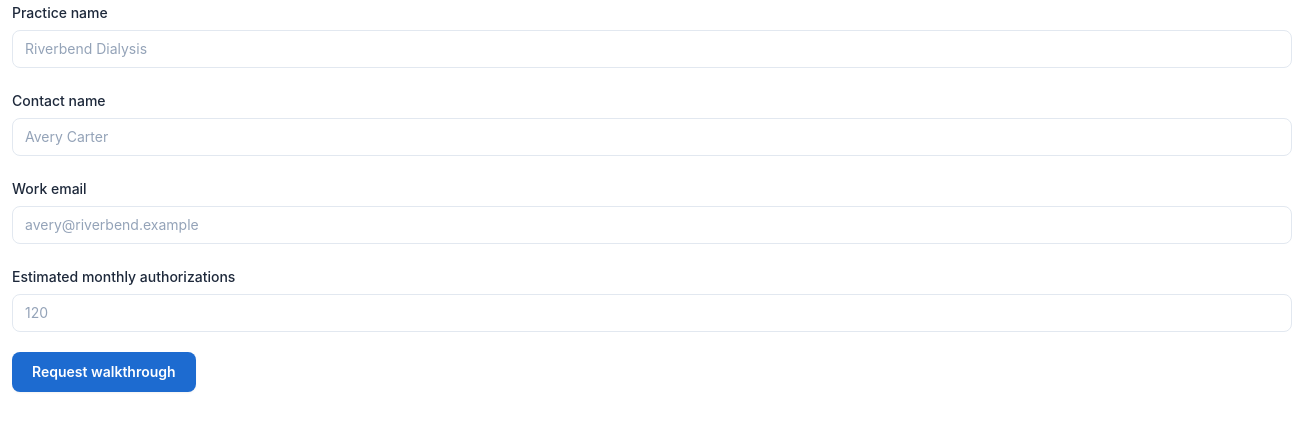
IntakeForm › flags malformed emails
This screenshot has width=1304, height=431.
Type "Riverbend" into the field with placeholder "Riverbend Dialysis". click: (652, 49)
box: x1=12 y1=30 x2=1292 y2=68
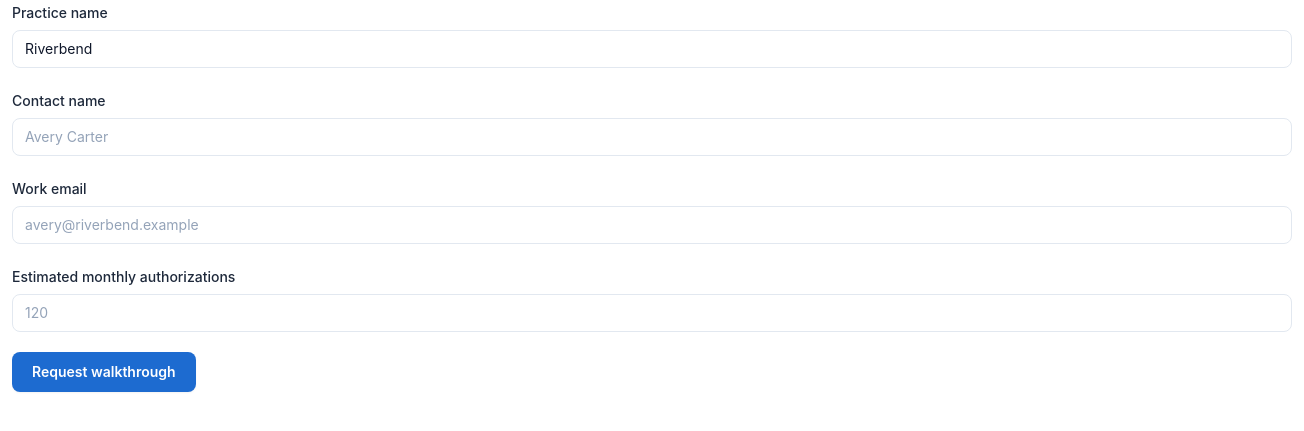
Type "Avery" into the field with placeholder "Avery Carter". click: (652, 137)
box: x1=12 y1=118 x2=1292 y2=156
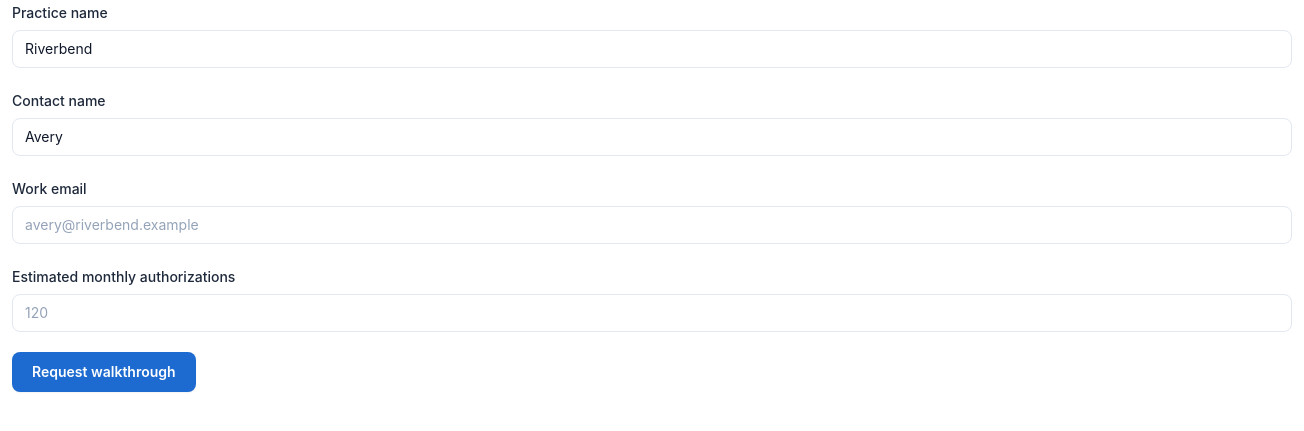
Type "not-an-email" into the field with placeholder "avery@riverbend.example". click: (652, 225)
box: x1=12 y1=206 x2=1292 y2=244
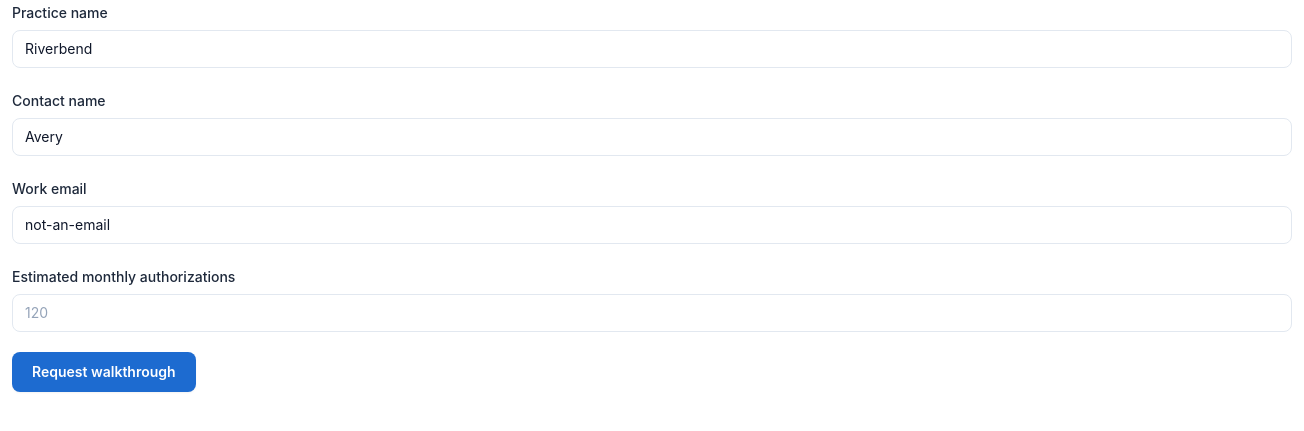
Type "100" into the number field with placeholder "120". click: (652, 313)
box: x1=12 y1=294 x2=1292 y2=332
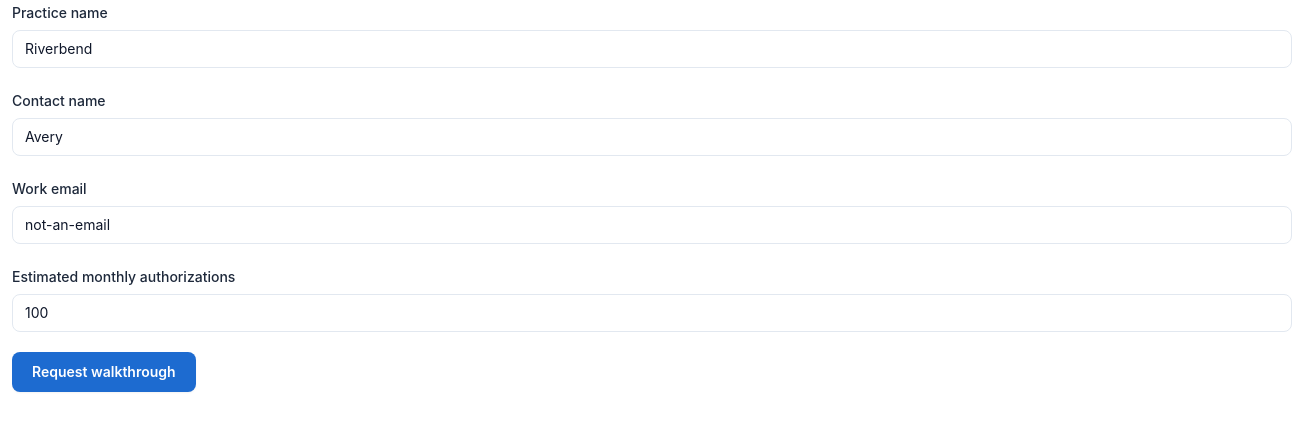
Click the button "Request walkthrough". click: (104, 372)
box: x1=12 y1=352 x2=196 y2=392
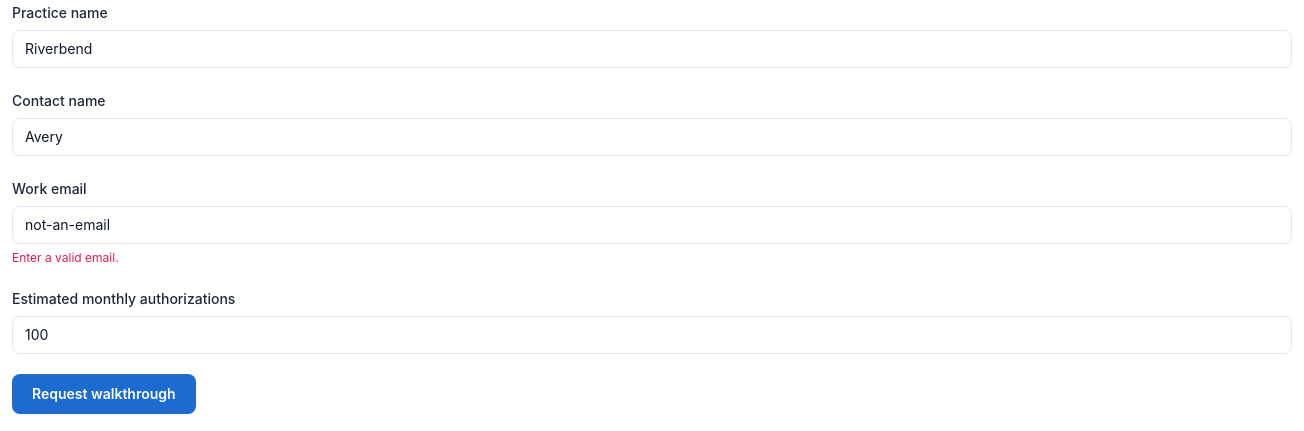
Now the text "Enter a valid email." is shown, box x1=12 y1=250 x2=119 y2=265
